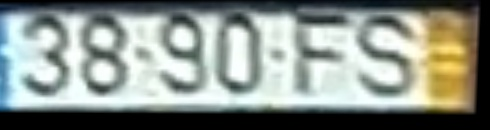0: (212, 6, 269, 103)
3: (15, 9, 76, 102)
8: (74, 9, 135, 104)
9: (152, 11, 212, 100)
F: (291, 13, 356, 100)
S: (352, 12, 421, 102)
